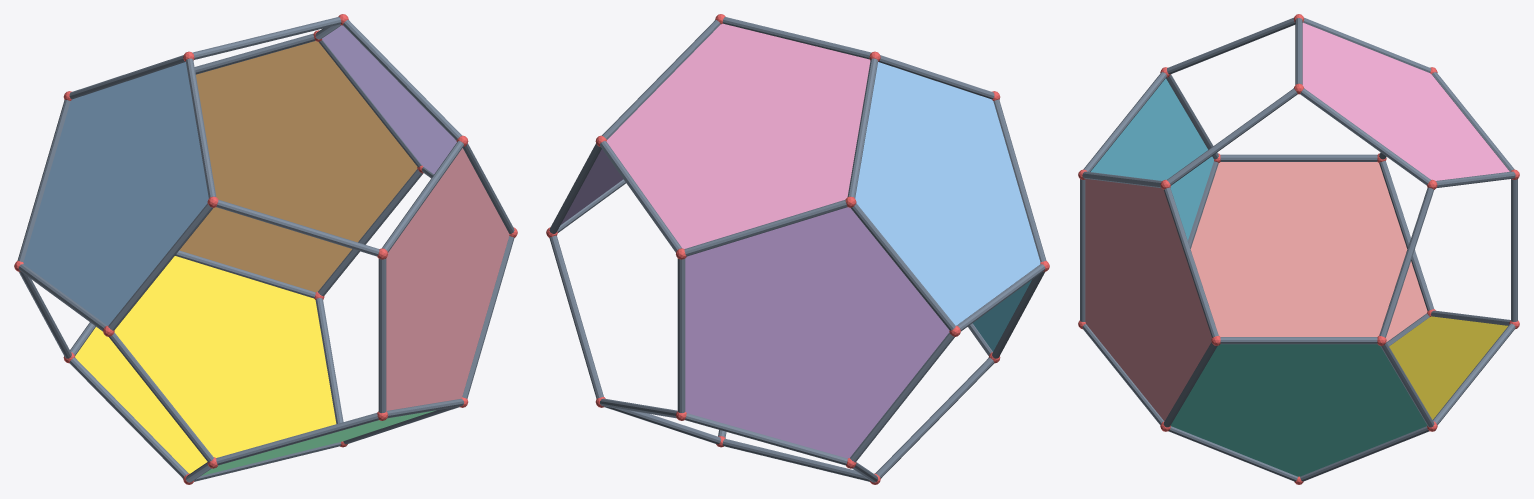
The model's file is muoihimat.glb.
3 renders of one model, left to right at view 1: azimuth 30°, elevation 25°; view 2: azimuth 150°, elevation 25°; view 3: azimuth 270°, elevation 25°, orthographic. The views are drawn at different scales.
Parts seen in each view (by area): view 1: world; view 2: world; view 3: world.
Boxes of the visible parts, <box> form: world: <box>14,14,517,484</box>; world: <box>546,14,1049,484</box>; world: <box>1078,14,1519,484</box>.
Bounding box in the file's own units: 0.2555 × 0.2555 × 0.2555.
